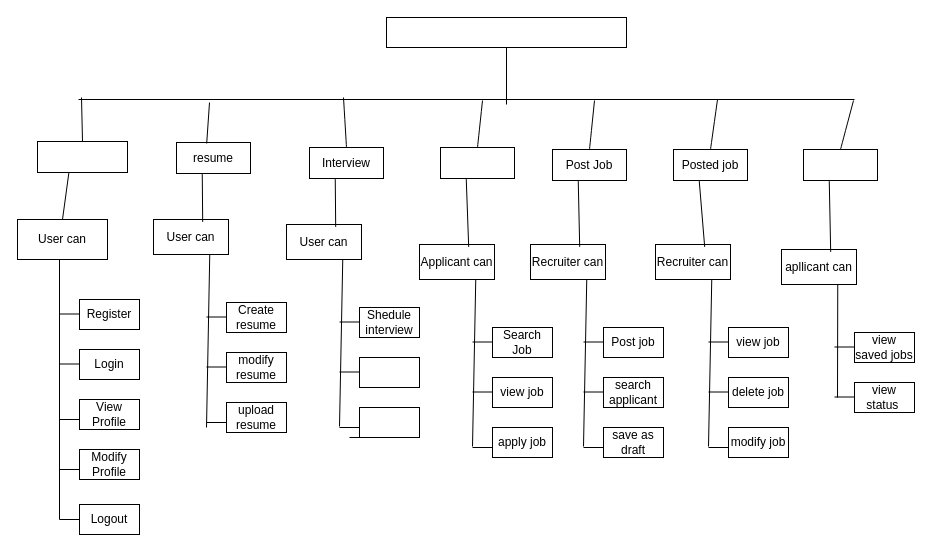
Image size: 932x552. Some labels were removed from this diagram. The box of each missing label's shape, as (x1, y1, x2, y2) in pixels:
AiJobSync: (386, 16, 626, 48)
Find jon: (440, 146, 514, 178)
Get feedback: (358, 356, 420, 388)
Get score: (358, 406, 420, 438)
Job history: (802, 148, 878, 180)
Profile: (36, 140, 128, 172)
